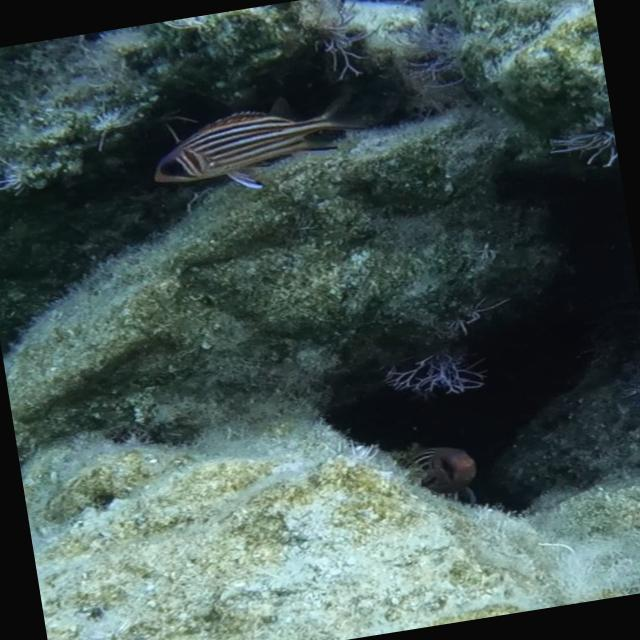Asker Baligi: (142, 84, 380, 206)
